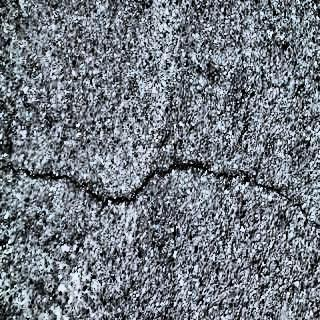crack: (3, 146, 320, 229)
